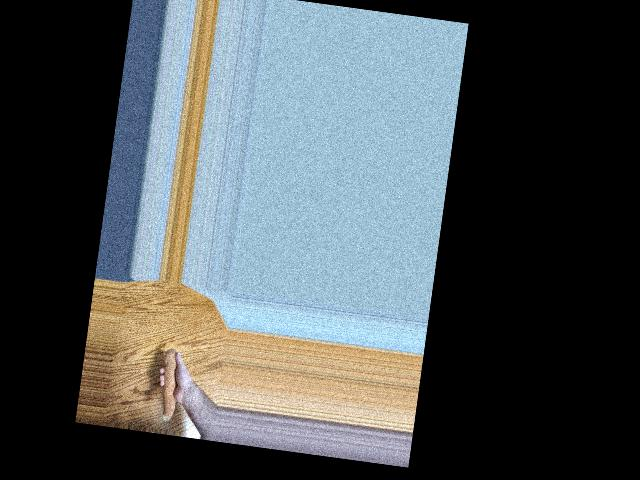sweet_potato: (154, 347, 188, 424)
